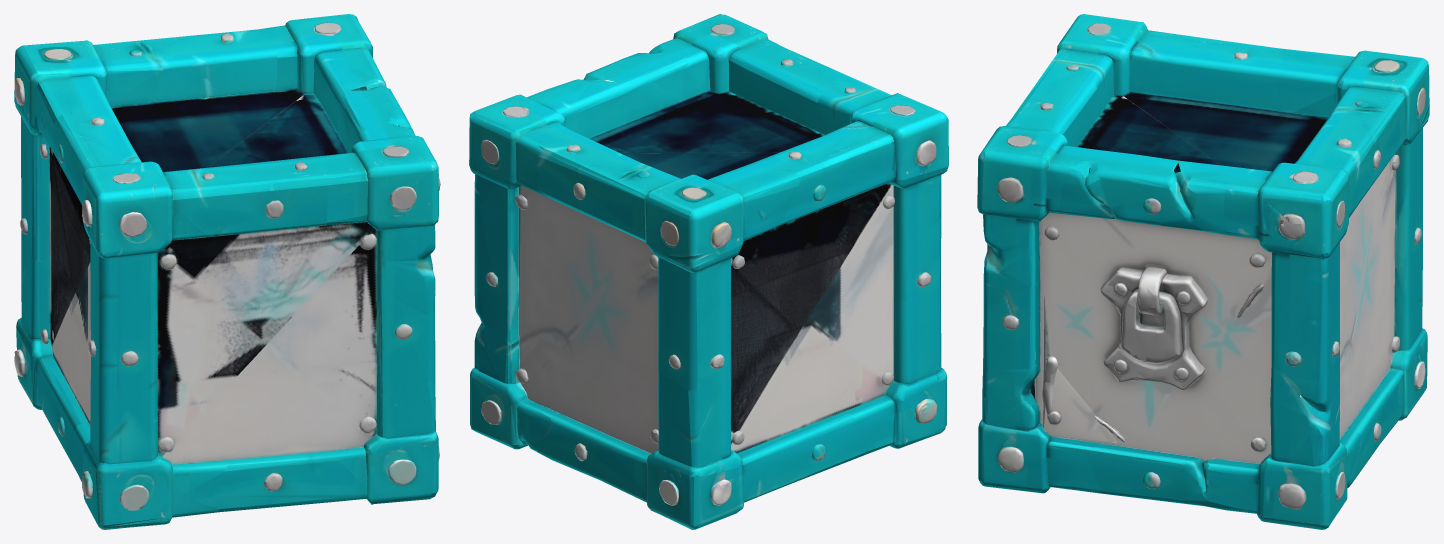
Rendered from RimeforgedCrate.glb.
3 views of the same model, side by side, from view 1: azimuth 30°, elevation 25°; view 2: azimuth 150°, elevation 25°; view 3: azimuth 270°, elevation 25° (orthographic). The views are drawn at different scales.
Parts seen in each view (by area): view 1: Mesh::generatedModels/R46LStJue7GxNm9ecvEK.gltf; view 2: Mesh::generatedModels/R46LStJue7GxNm9ecvEK.gltf; view 3: Mesh::generatedModels/R46LStJue7GxNm9ecvEK.gltf.
Boxes of the visible parts, left/top/right/bottom form: Mesh::generatedModels/R46LStJue7GxNm9ecvEK.gltf: left=14, top=14, right=440, bottom=529; Mesh::generatedModels/R46LStJue7GxNm9ecvEK.gltf: left=469, top=14, right=948, bottom=529; Mesh::generatedModels/R46LStJue7GxNm9ecvEK.gltf: left=977, top=14, right=1429, bottom=529.
Bounding box in the file's own units: 1.18 × 1 × 1.21.
Materials: 1 (1 with a texture image).
